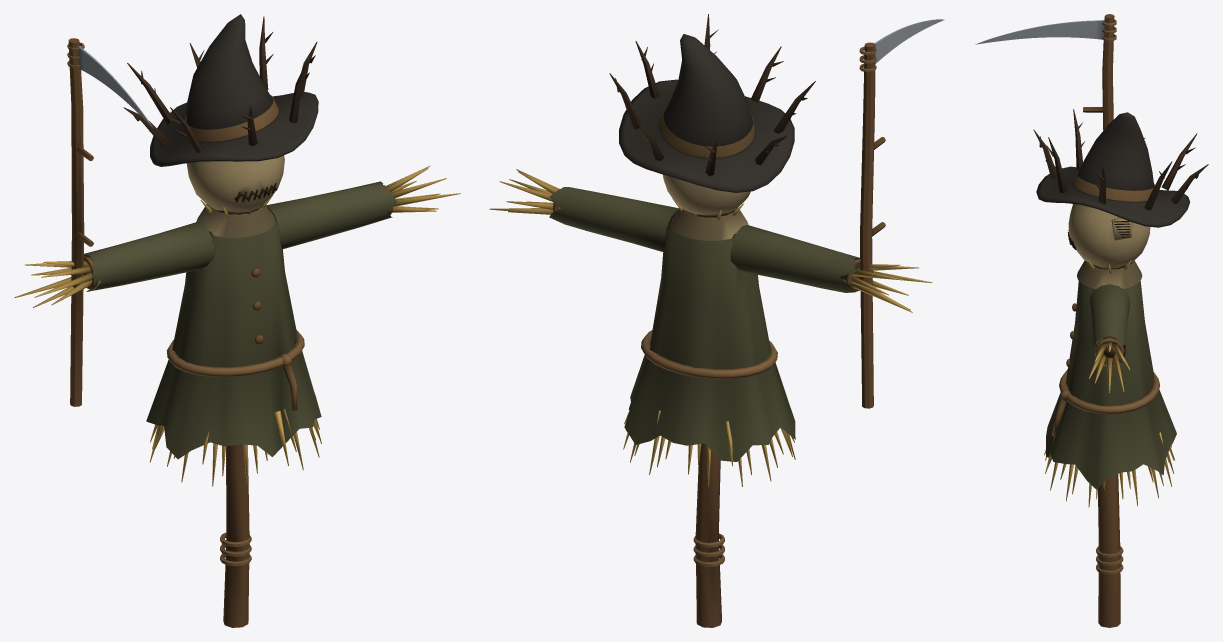
File: espantapajaros.glb
The picture shows the model from 3 angles, left to right: view 1: azimuth 30°, elevation 25°; view 2: azimuth 150°, elevation 25°; view 3: azimuth 270°, elevation 25°; orthographic projection. The views are drawn at different scales.
Visible parts, largest first — view 1: abrigo, sombrero, mangaR, mangaL, saco, guadana, poste, espinas; view 2: abrigo, sombrero, mangaR, mangaL, guadana, poste, saco, espinas; view 3: abrigo, sombrero, saco, poste, mangaL, guadana, espinas.
Boxes of the visible parts, bbox=[...] form: abrigo: bbox=[83, 195, 321, 486]; sombrero: bbox=[150, 14, 318, 166]; mangaR: bbox=[14, 222, 214, 307]; mangaL: bbox=[266, 166, 460, 249]; saco: bbox=[186, 155, 284, 237]; guadana: bbox=[67, 38, 153, 406]; poste: bbox=[220, 444, 251, 627]; espinas: bbox=[123, 16, 317, 152]; abrigo: bbox=[623, 198, 860, 487]; sombrero: bbox=[619, 34, 794, 192]; mangaR: bbox=[730, 225, 932, 312]; mangaL: bbox=[489, 169, 679, 251]; guadana: bbox=[859, 19, 944, 408]; poste: bbox=[693, 443, 724, 627]; saco: bbox=[663, 174, 750, 240]; espinas: bbox=[609, 14, 815, 175]; abrigo: bbox=[1044, 260, 1176, 507]; sombrero: bbox=[1036, 112, 1189, 227]; saco: bbox=[1068, 204, 1150, 288]; poste: bbox=[1096, 474, 1123, 627]; mangaL: bbox=[1089, 284, 1130, 393]; guadana: bbox=[975, 14, 1116, 130]; espinas: bbox=[1033, 109, 1208, 210].
Size of the model in its own units: 2.08 by 2.9 by 1.14.
